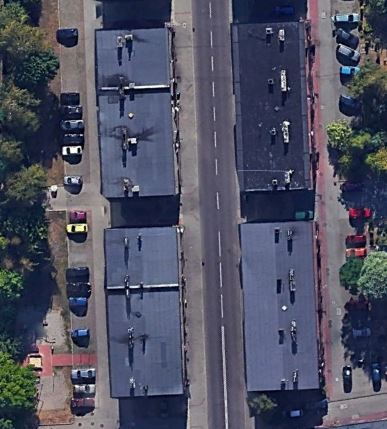block of flats: (90, 24, 182, 203), (226, 15, 315, 198), (100, 223, 188, 402), (235, 217, 324, 393)
